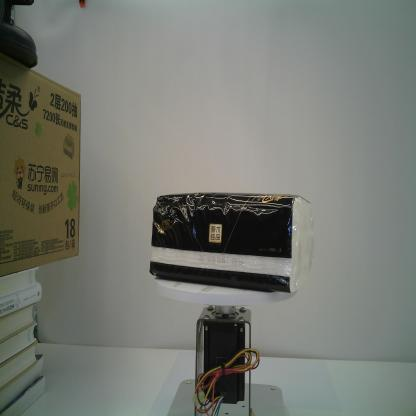Tissue: (148, 190, 315, 294)
